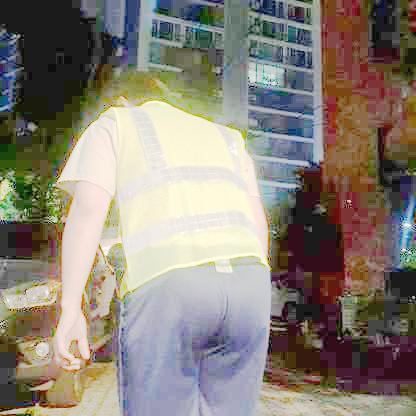no-helmet: (89, 60, 165, 114)
vest: (98, 100, 273, 296)
